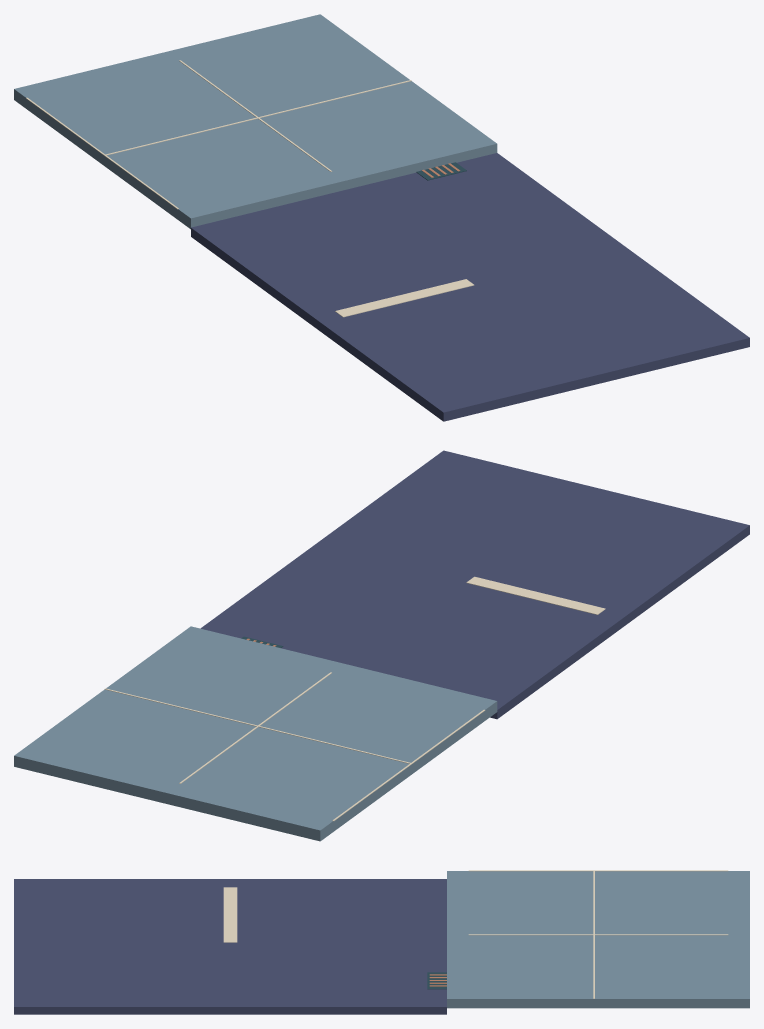
The model's file is sf4_ground_7m.glb.
3 renders of one model, top to bottom at view 1: azimuth 30°, elevation 25°; view 2: azimuth 150°, elevation 25°; view 3: azimuth 270°, elevation 25°, orthographic. The views are drawn at different scales.
Parts seen in each view (by area): view 1: sf4_ground_7m__sf3-midnight-indigo, sf4_ground_7m__sf3-dusty-blue, sf4_ground_7m__sf3-warm-ivory; view 2: sf4_ground_7m__sf3-midnight-indigo, sf4_ground_7m__sf3-dusty-blue, sf4_ground_7m__sf3-warm-ivory; view 3: sf4_ground_7m__sf3-midnight-indigo, sf4_ground_7m__sf3-dusty-blue, sf4_ground_7m__sf3-warm-ivory, sf4_ground_7m__sf3-deep-glass.
Boxes of the visible parts, box(x1,y1,x2,y2) form: sf4_ground_7m__sf3-midnight-indigo: box(191, 153, 749, 421); sf4_ground_7m__sf3-dusty-blue: box(14, 14, 497, 229); sf4_ground_7m__sf3-warm-ivory: box(26, 60, 474, 317); sf4_ground_7m__sf3-midnight-indigo: box(200, 450, 749, 719); sf4_ground_7m__sf3-dusty-blue: box(14, 626, 497, 841); sf4_ground_7m__sf3-warm-ivory: box(104, 576, 605, 821); sf4_ground_7m__sf3-midnight-indigo: box(14, 879, 446, 1014); sf4_ground_7m__sf3-dusty-blue: box(447, 871, 749, 1008); sf4_ground_7m__sf3-warm-ivory: box(223, 870, 728, 998); sf4_ground_7m__sf3-deep-glass: box(427, 972, 446, 989).
Bounding box in the file's own units: 7.02 × 0.411 × 17.
